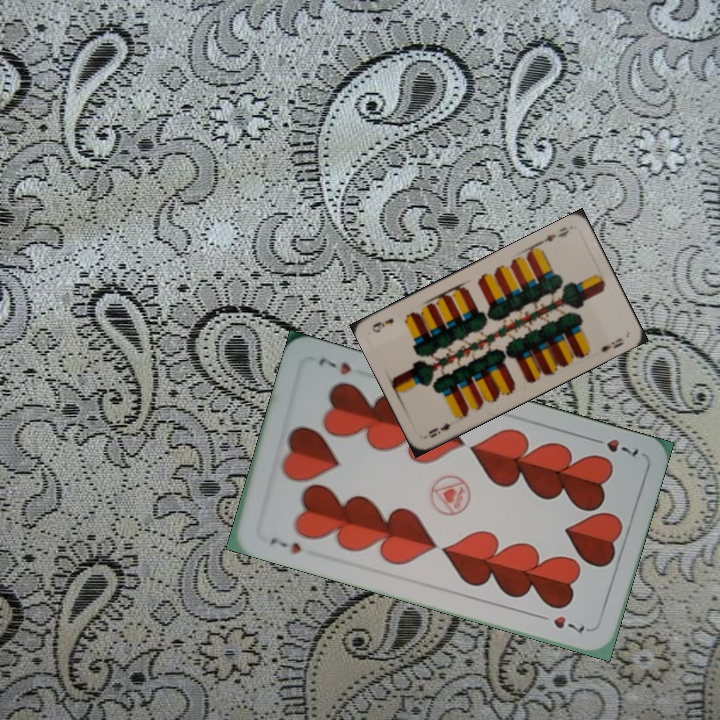E9: (536, 222, 574, 247), (424, 419, 453, 440)
H7: (585, 433, 641, 459), (266, 532, 304, 557)
